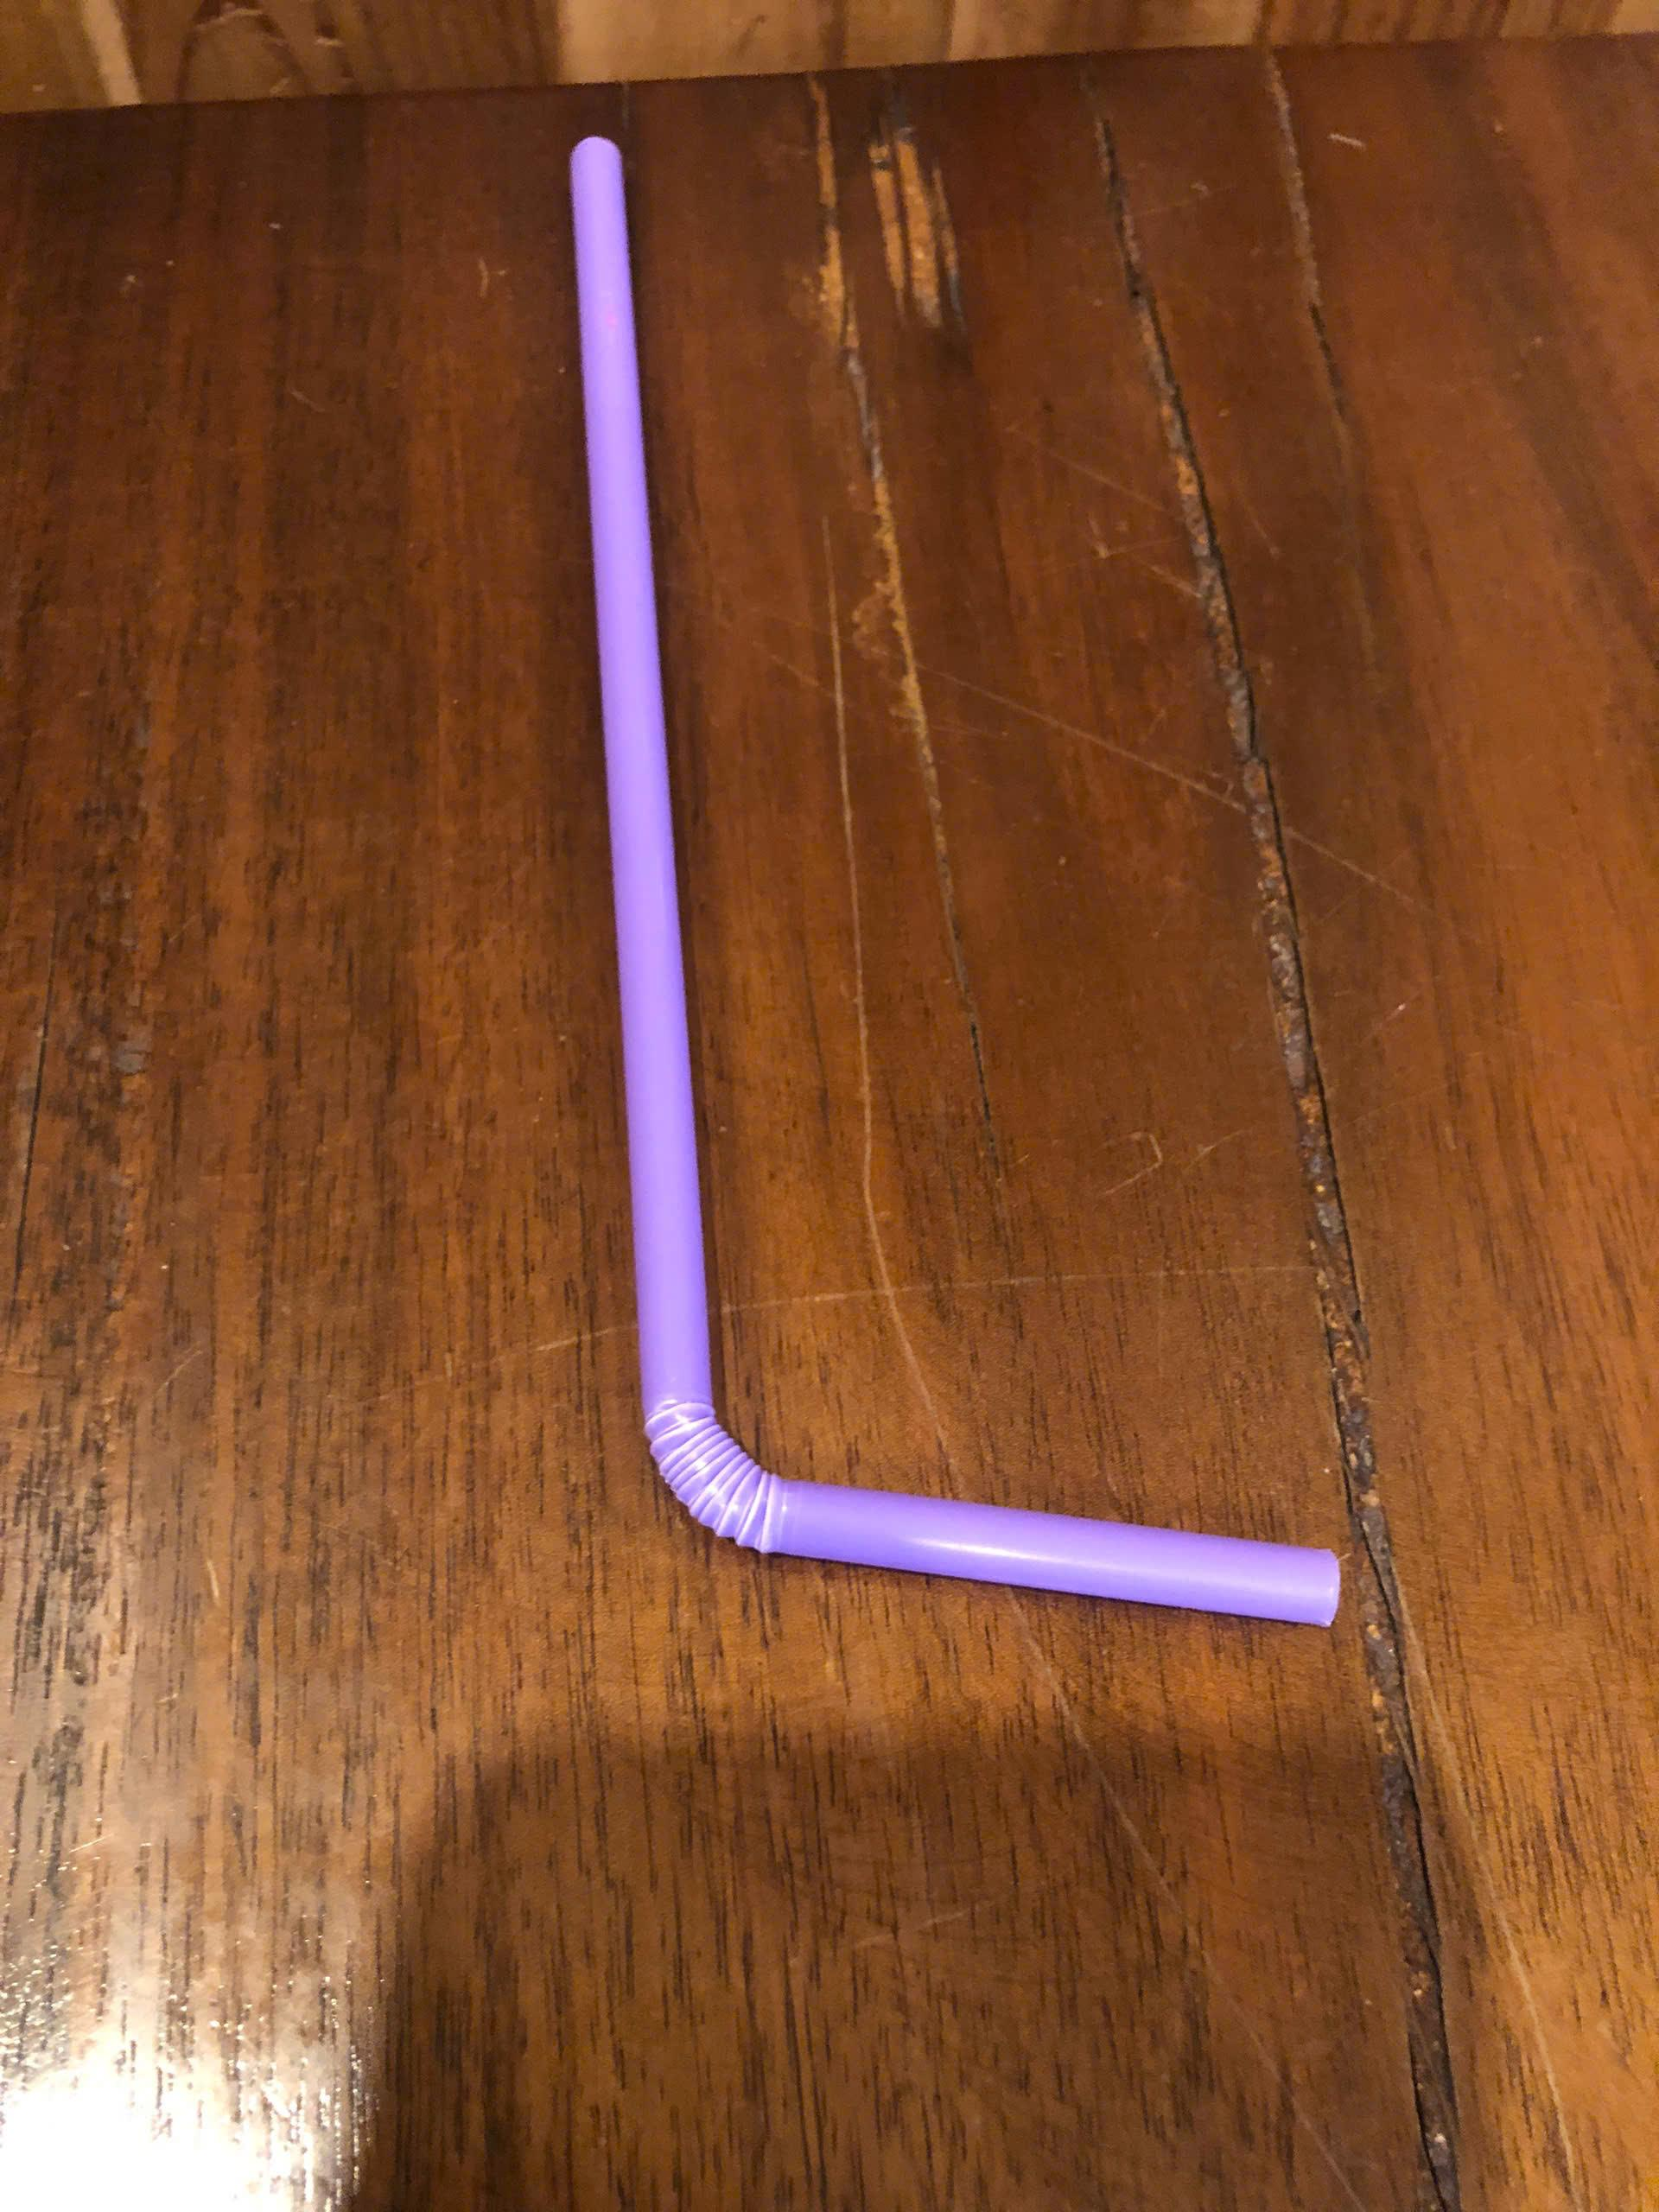Vo co: (561, 131, 1354, 1622)
